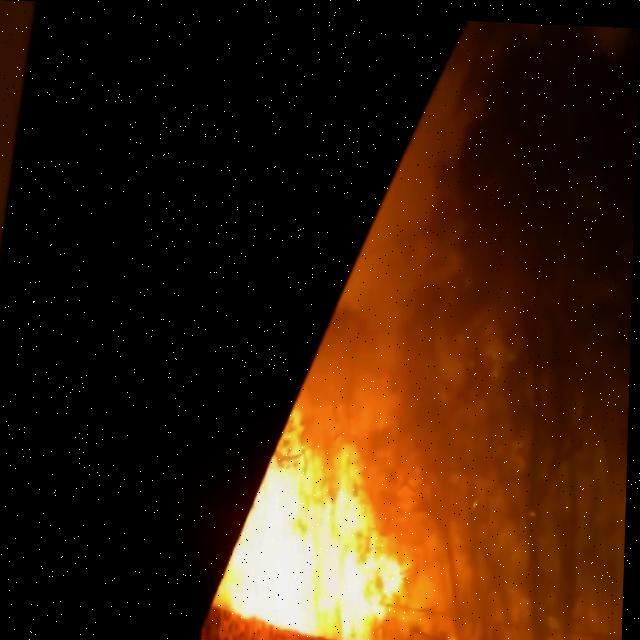Fire: (215, 422, 416, 639)
